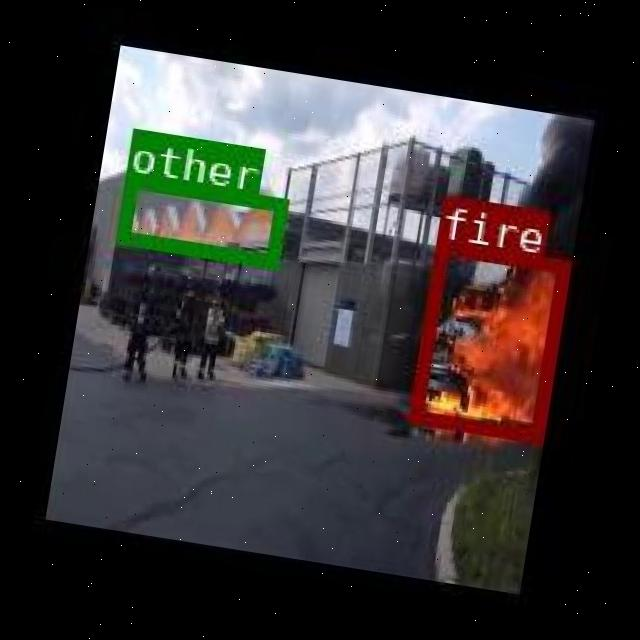fire: (408, 238, 568, 440)
